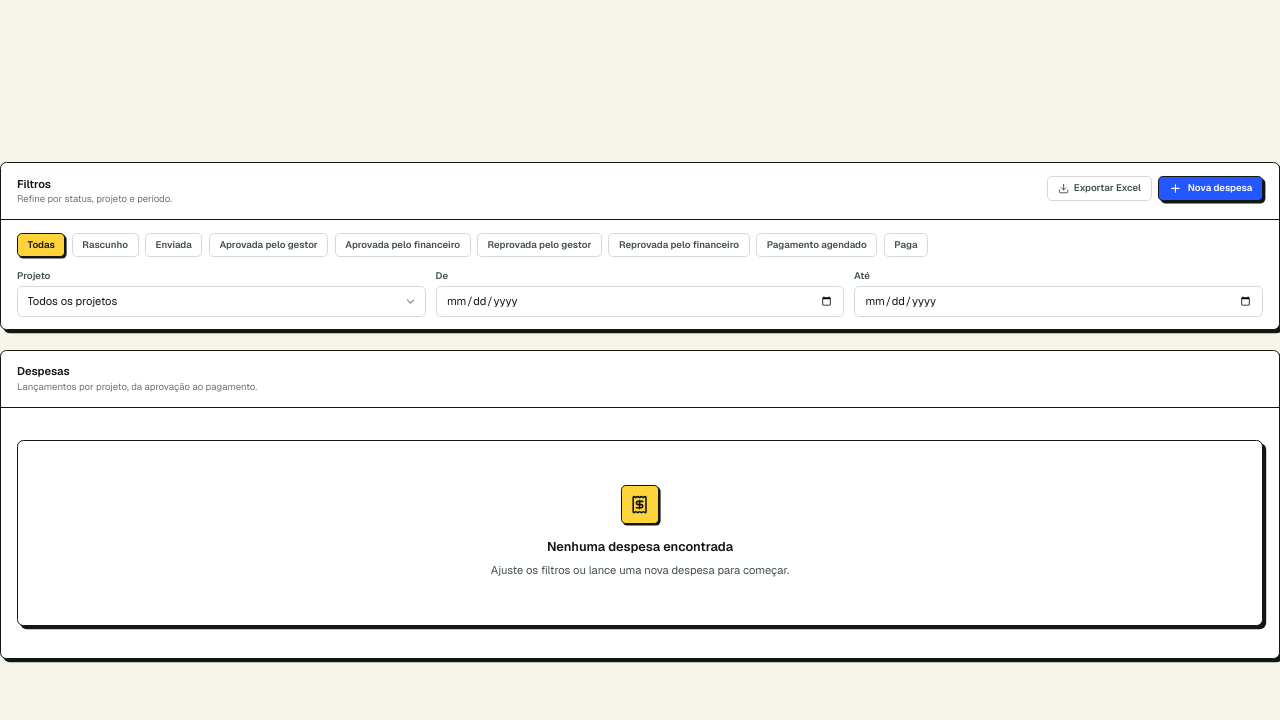
Test: ExpensesView (db mode) › shows the storage-unavailable warning in the form
Click the button "Nova despesa": (1210, 188) x1=1158 y1=176 x2=1263 y2=201
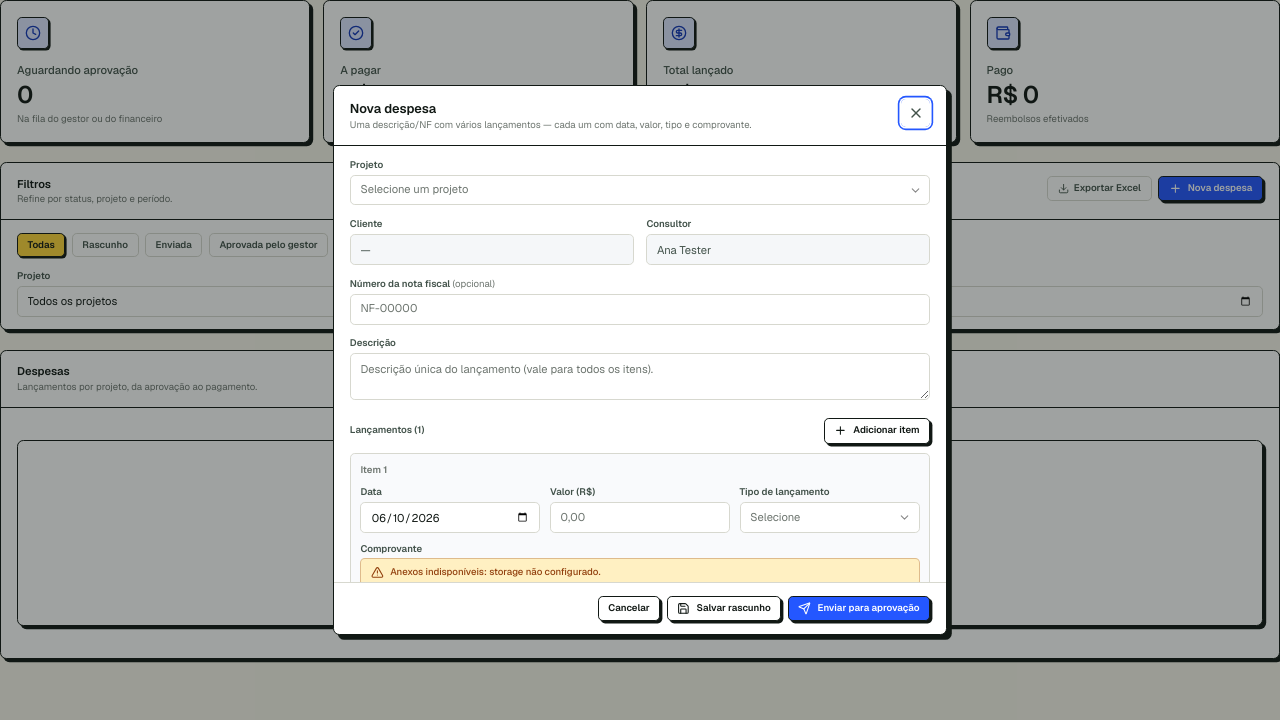
Expected: the text "Anexos indisponíveis: storage não configurado." is shown, x1=360 y1=558 x2=920 y2=582
